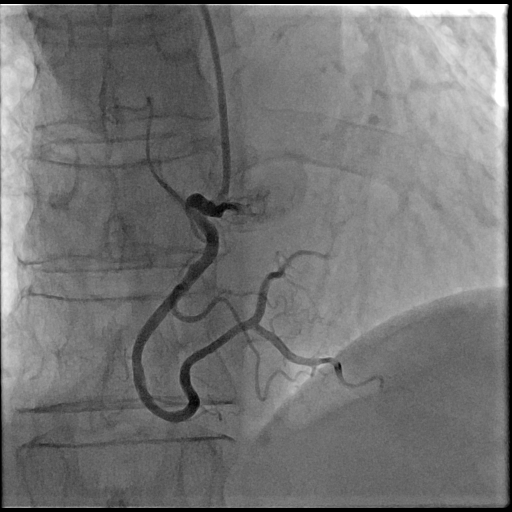RCA: (132, 193, 314, 423)
catherter: (201, 6, 231, 202)
